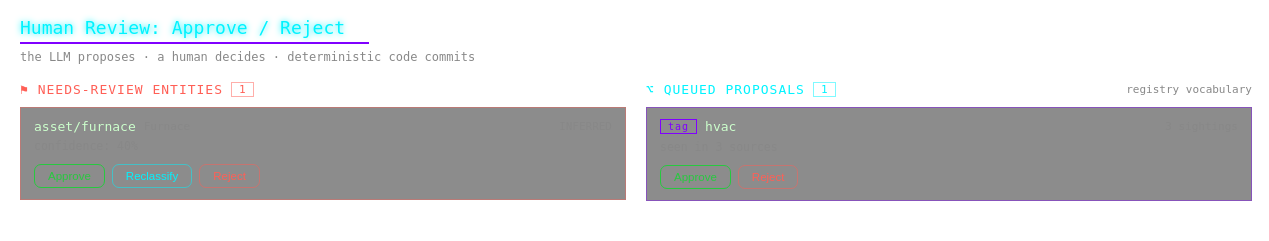
Review Screen › renders a visible error when a mutation fails
Click the button "Approve" below "confidence:": {"x": 69, "y": 176} [34,164,105,188]
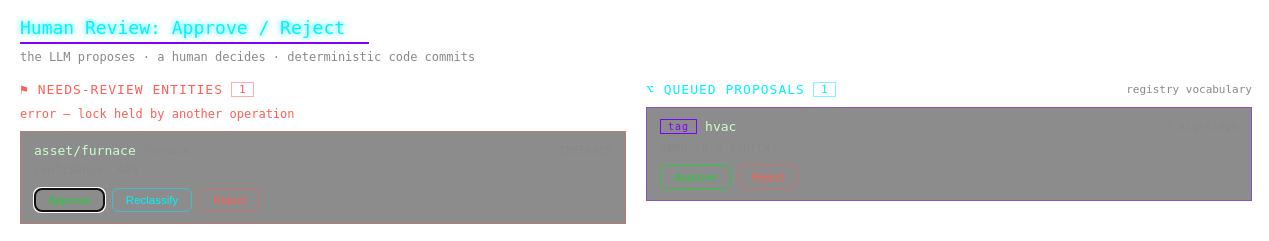
Expected: the button "Approve" below "confidence:" is enabled, [34,188,105,212]
Expected: the text "error — lock held by another operation" is shown, [20,107,294,121]
